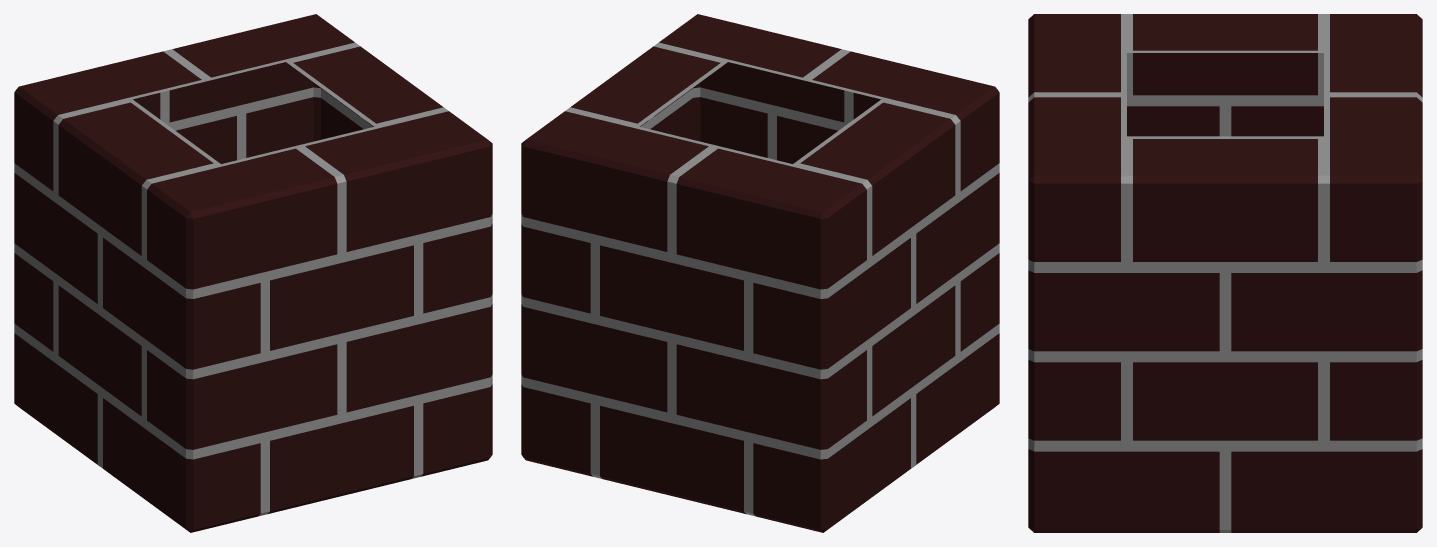
Rendered from brickstack.FBX.
3 renders of one model, left to right at view 1: azimuth 30°, elevation 25°; view 2: azimuth 150°, elevation 25°; view 3: azimuth 270°, elevation 25°, orthographic. The views are drawn at different scales.
Parts seen in each view (by area): view 1: Box001; view 2: Box001; view 3: Box001.
Boxes of the visible parts, <box> form: Box001: <box>14,14,492,532</box>; Box001: <box>521,14,999,532</box>; Box001: <box>1028,14,1422,532</box>.
Bounding box in the file's own units: 100 × 100 × 100.
